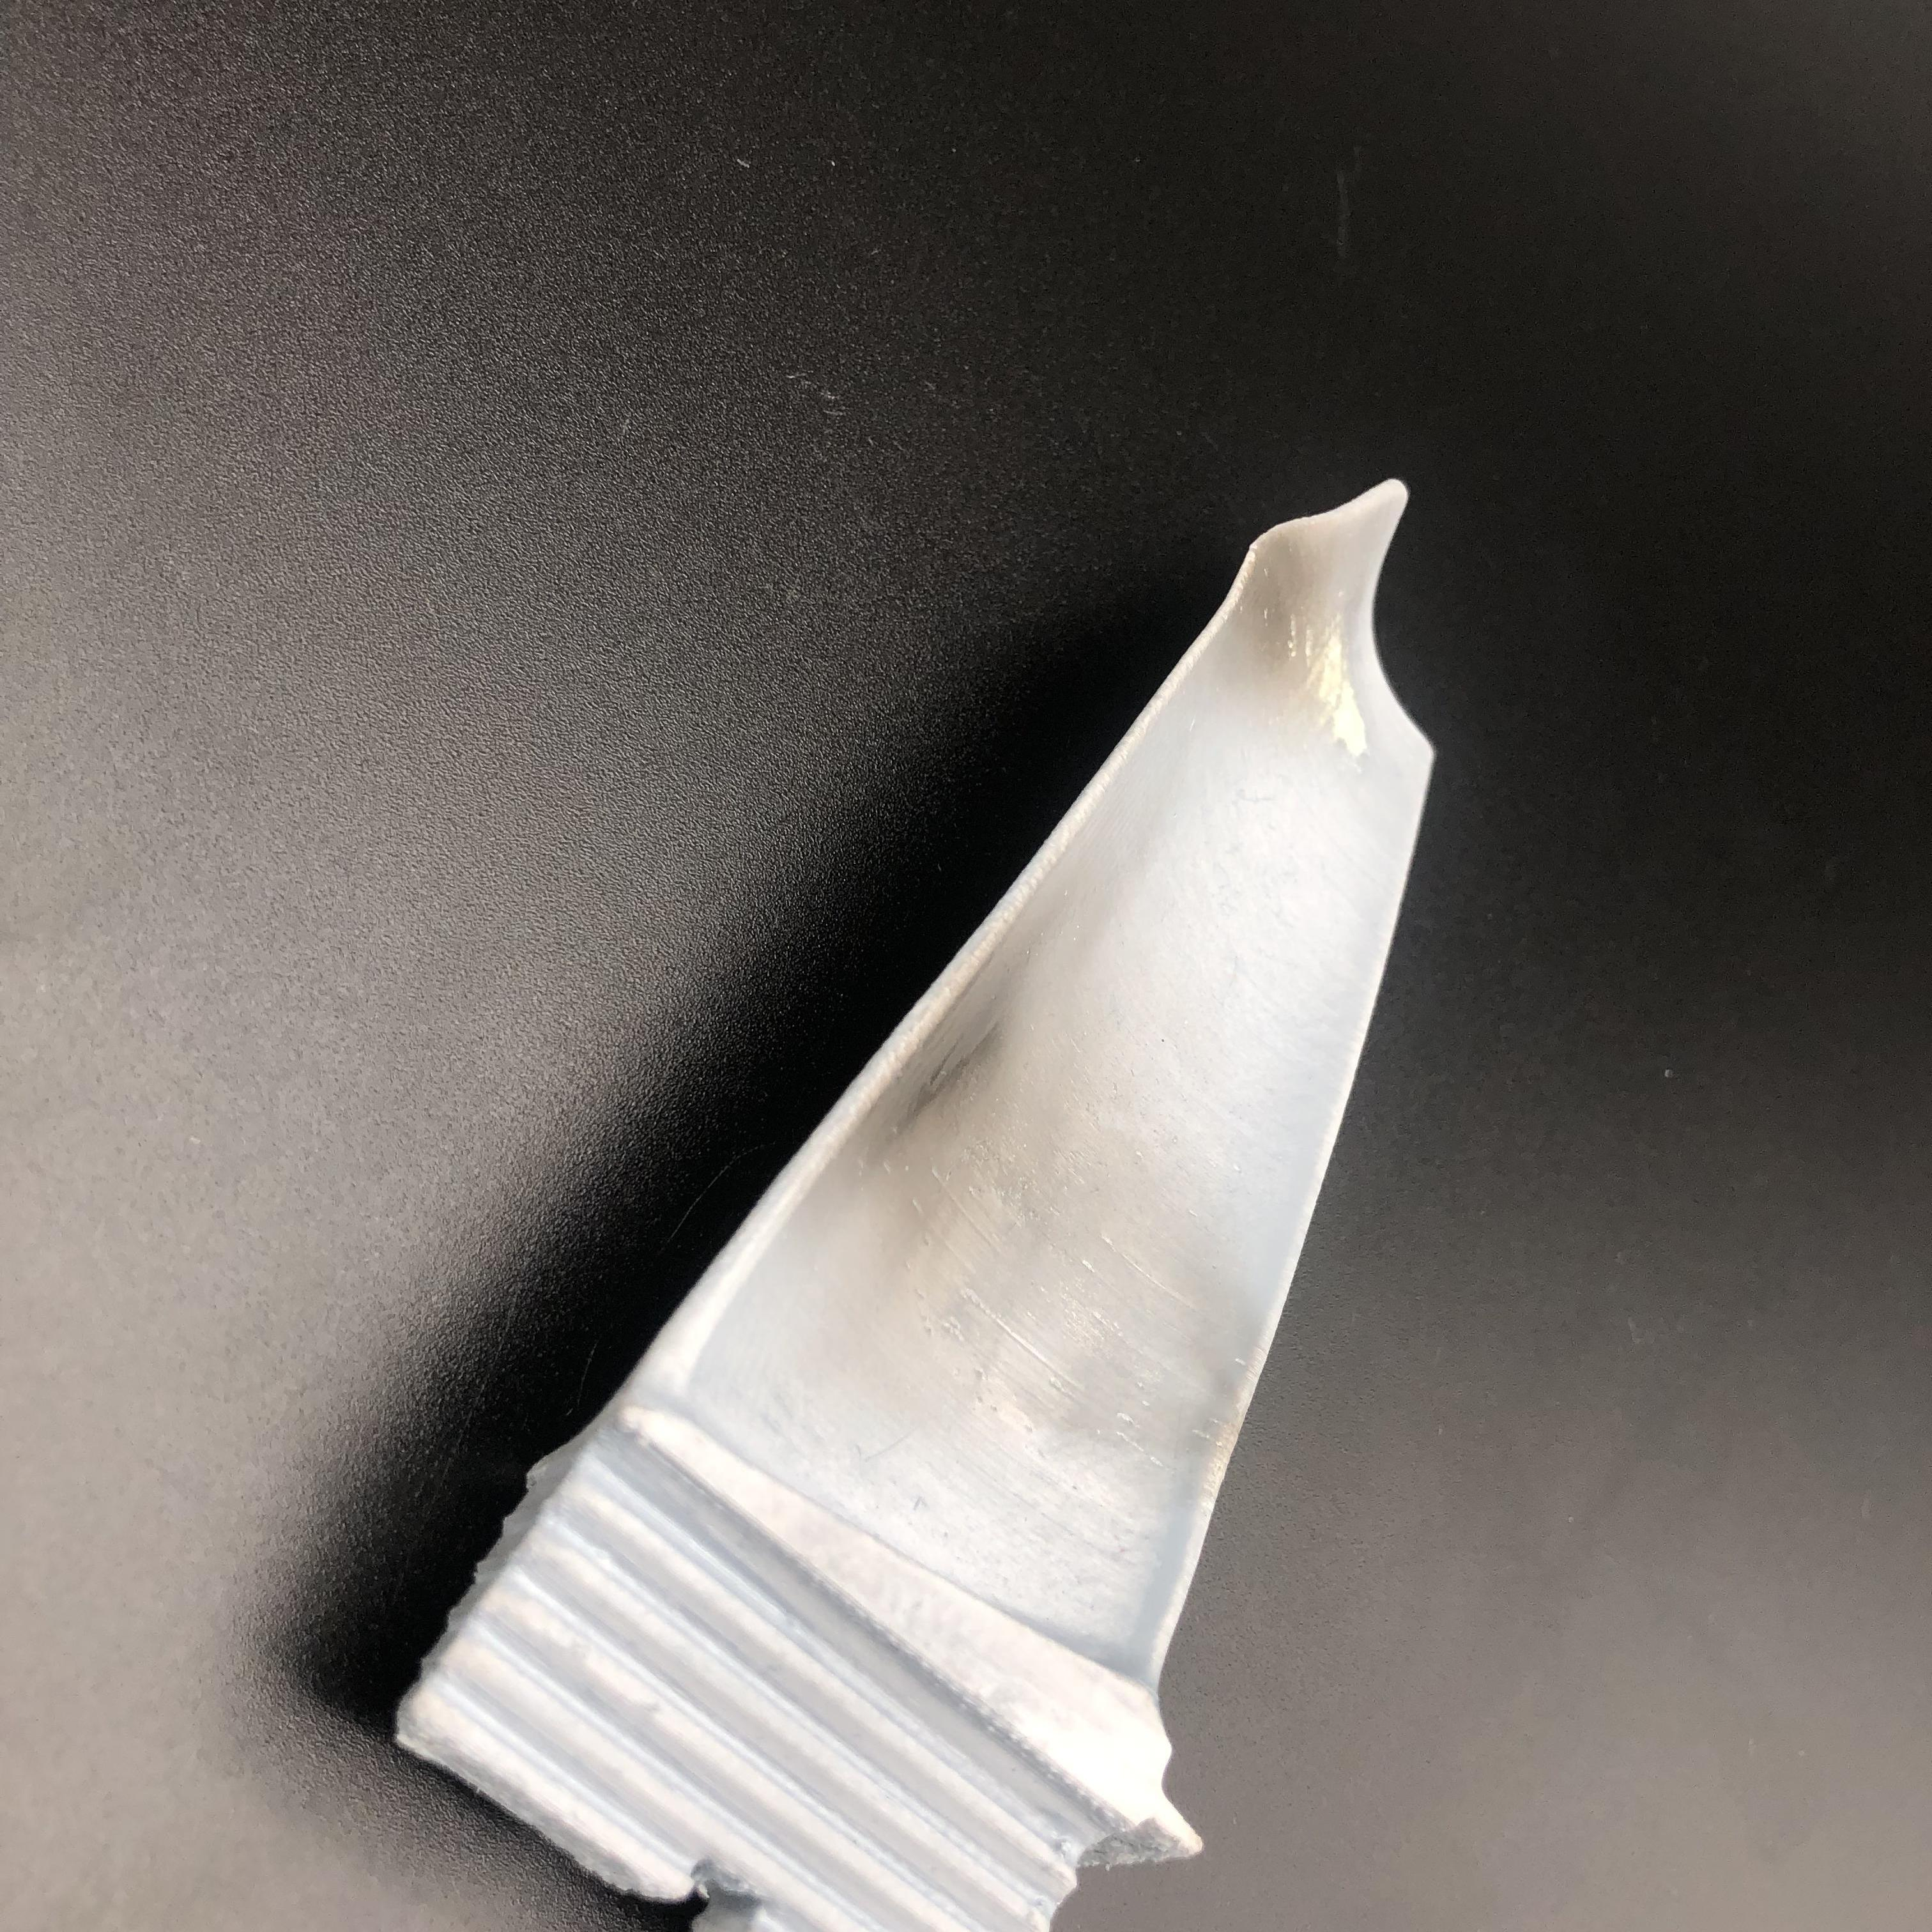ablation: (888, 1019, 1231, 1445), (1242, 564, 1369, 745)
